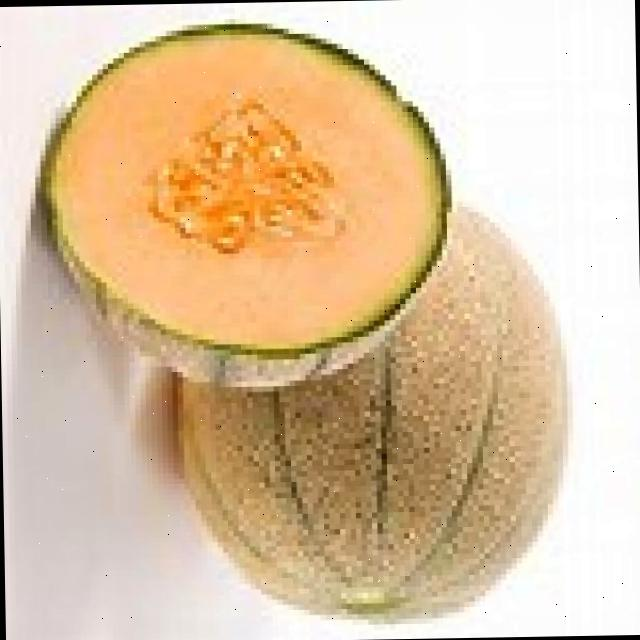Hami Melon: (167, 195, 579, 622), (44, 19, 456, 392)
